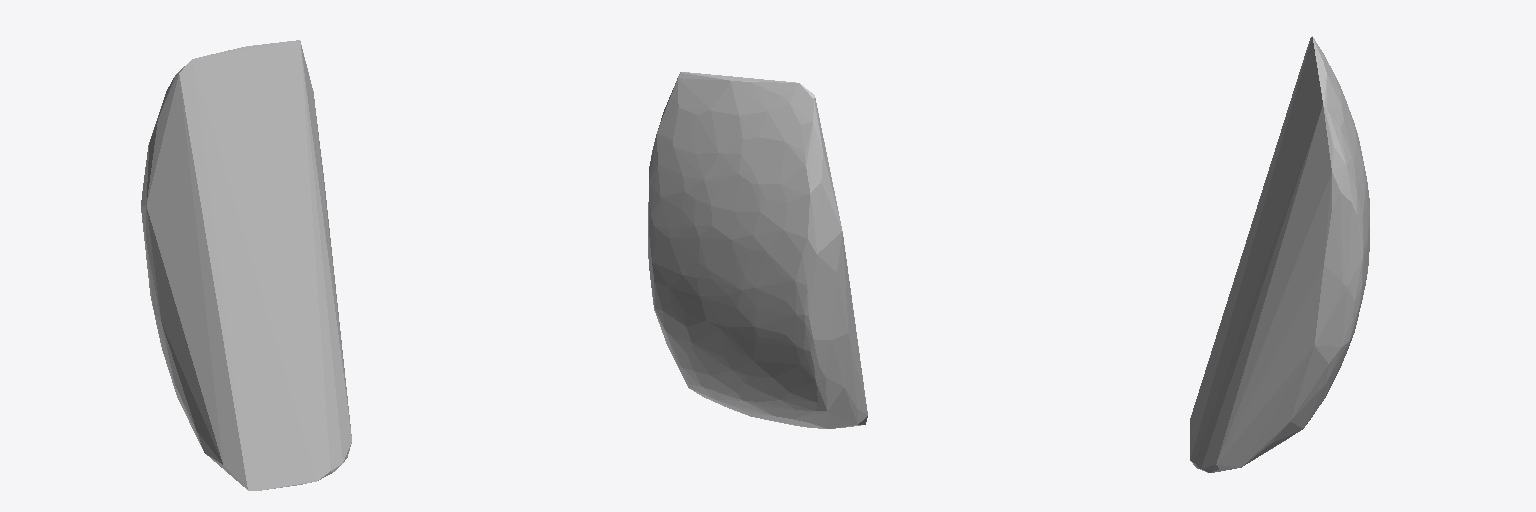
Rendered from MiddleLeftUpperLimb_z_joint.obj.
3 views of the same model, side by side, from view 1: azimuth 30°, elevation 25°; view 2: azimuth 150°, elevation 25°; view 3: azimuth 270°, elevation 25° (orthographic).
Visible parts, largest first — view 1: foo; view 2: foo; view 3: foo.
Part boxes in pixels (x1,y1,x2,y2): foo: (141, 40, 351, 490); foo: (648, 72, 867, 428); foo: (1190, 36, 1369, 472).
Size of the model in its own units: 0.8352 by 1.7 by 0.7103.